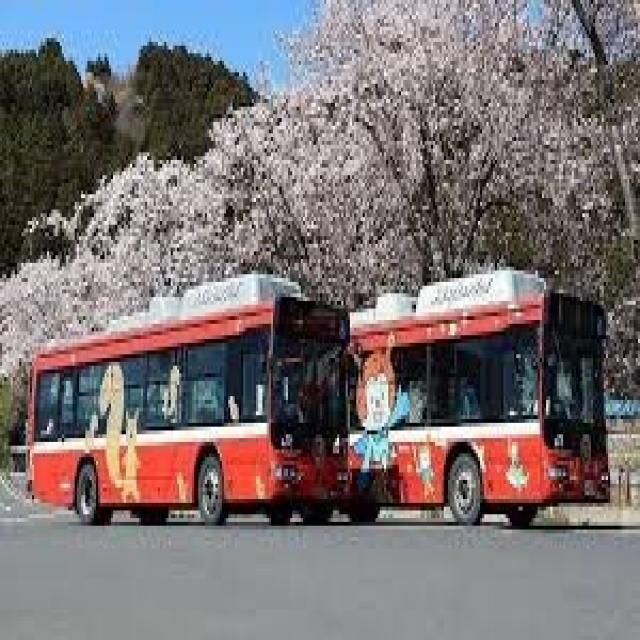bus: (12, 274, 358, 521), (353, 251, 618, 559)
